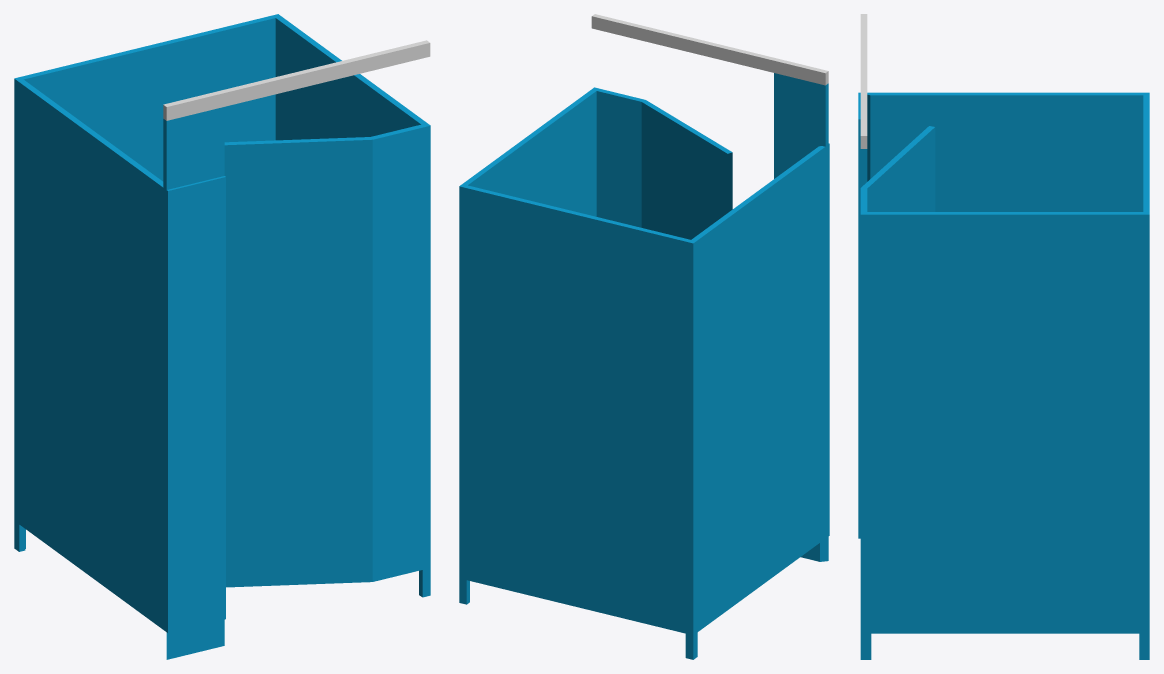
The model's file is bathroom_stall.fbx.
The picture shows the model from 3 angles, left to right: view 1: azimuth 30°, elevation 25°; view 2: azimuth 150°, elevation 25°; view 3: azimuth 270°, elevation 25°; orthographic projection. The views are drawn at different scales.
Visible parts, largest first — view 1: Cube, Cube.001, Cube.002; view 2: Cube, Cube.001, Cube.002; view 3: Cube, Cube.001, Cube.002.
Part boxes in pixels (x1=…): Cube: x1=14, y1=14, x2=430, y2=659; Cube.001: x1=224, y1=137, x2=372, y2=587; Cube.002: x1=163, y1=40, x2=430, y2=120; Cube: x1=459, y1=73, x2=829, y2=659; Cube.001: x1=641, y1=100, x2=732, y2=239; Cube.002: x1=591, y1=14, x2=828, y2=85; Cube: x1=858, y1=92, x2=1149, y2=659; Cube.001: x1=861, y1=126, x2=935, y2=211; Cube.002: x1=860, y1=14, x2=867, y2=148.
Bounding box in the file's own units: 200 × 400 × 202.
